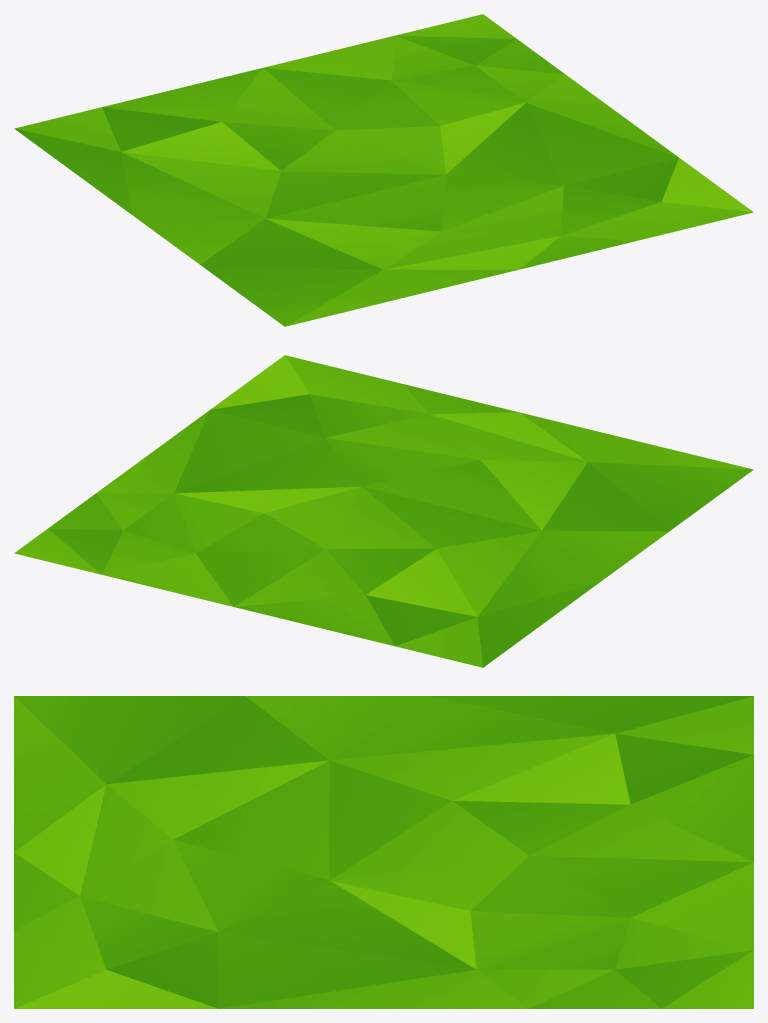
File: GL-Terrain-part-05-LOD3.fbx
3 views of the same model, one above another, from view 1: azimuth 30°, elevation 25°; view 2: azimuth 150°, elevation 25°; view 3: azimuth 270°, elevation 25° (orthographic). The views are drawn at different scales.
Visible parts, largest first — view 1: GL_Terrain_part_05; view 2: GL_Terrain_part_05; view 3: GL_Terrain_part_05.
Boxes of the visible parts, x1=… form: GL_Terrain_part_05: x1=14, y1=14, x2=753, y2=326; GL_Terrain_part_05: x1=14, y1=355, x2=753, y2=667; GL_Terrain_part_05: x1=14, y1=696, x2=753, y2=1008.
Size of the model in its own units: 6 by 0 by 6.
